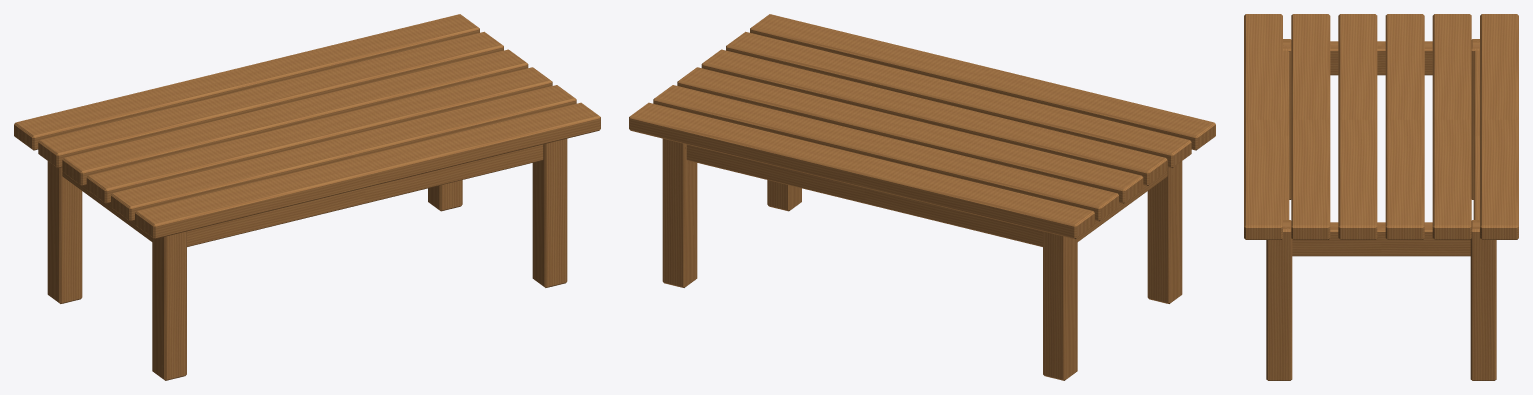
The model's file is teak-coffee-table.glb.
The picture shows the model from 3 angles, left to right: view 1: azimuth 30°, elevation 25°; view 2: azimuth 150°, elevation 25°; view 3: azimuth 270°, elevation 25°; orthographic projection. The views are drawn at different scales.
Parts seen in each view (by area): view 1: natural_teak; view 2: natural_teak; view 3: natural_teak.
Boxes of the visible parts, box(x1,y1,x2,y2) form: natural_teak: box(14, 14, 600, 380); natural_teak: box(629, 14, 1215, 380); natural_teak: box(1244, 14, 1518, 380).
Size of the model in its own units: 1.1 by 0.4 by 0.6.
Materials: 2 (1 with a texture image).
